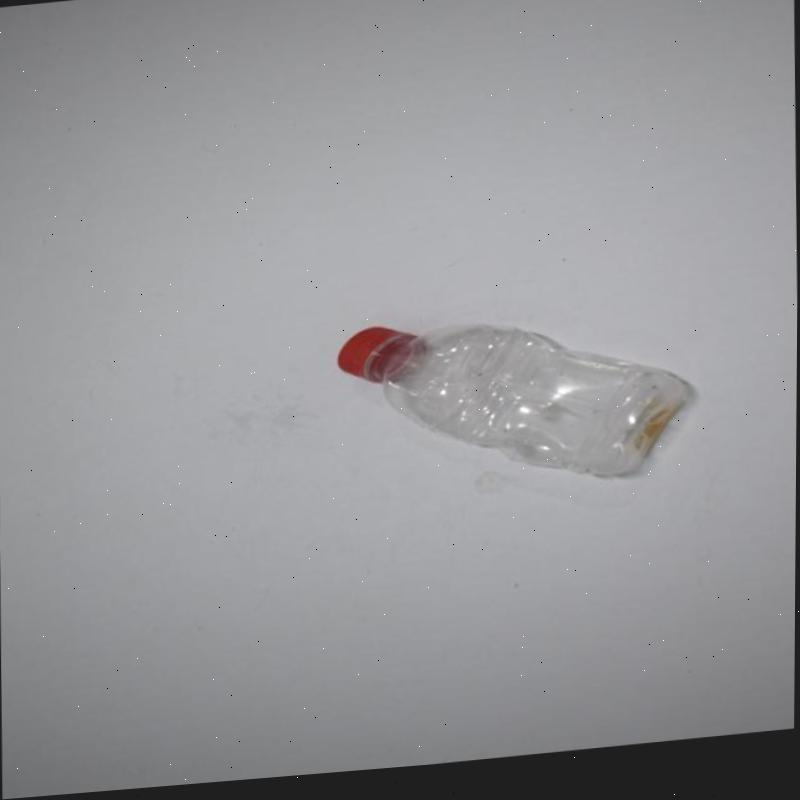botella: (335, 307, 694, 511)
